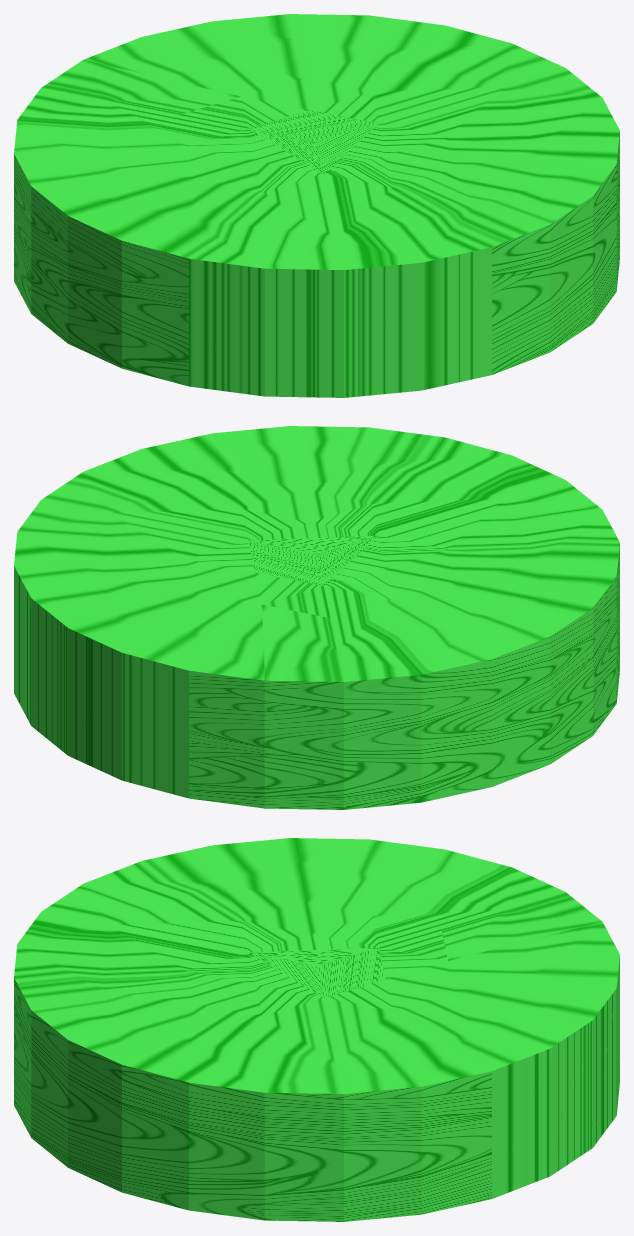
Rendered from discoAnim.obj.
3 renders of one model, top to bottom at view 1: azimuth 30°, elevation 25°; view 2: azimuth 150°, elevation 25°; view 3: azimuth 270°, elevation 25°, orthographic.
Parts seen in each view (by area): view 1: pDisc2; view 2: pDisc2; view 3: pDisc2.
Part boxes in pixels (<box>): pDisc2: <box>14,14,619,397</box>; pDisc2: <box>14,426,619,809</box>; pDisc2: <box>14,838,619,1221</box>.
Bounding box in the file's own units: 0.7299 × 0.1699 × 0.7299.
1 material, 1 textured.
